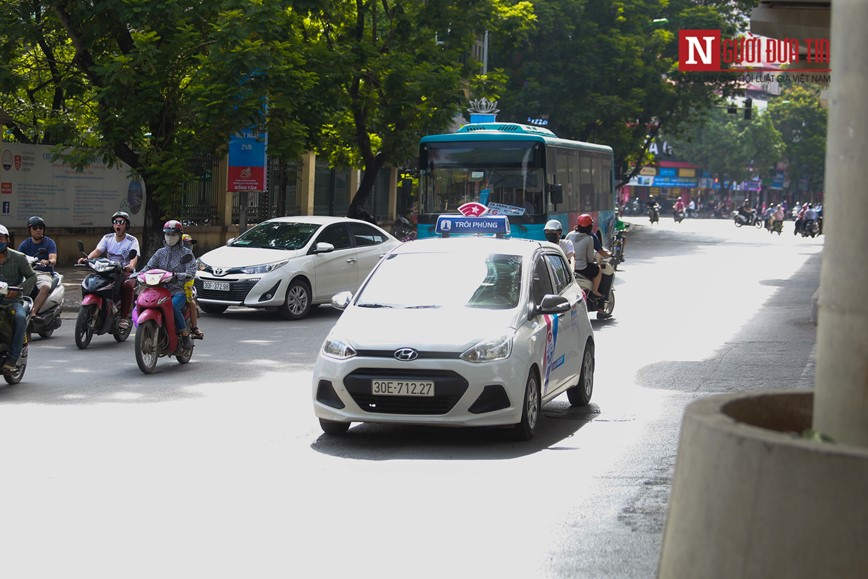number_plate: (365, 374, 440, 399)
